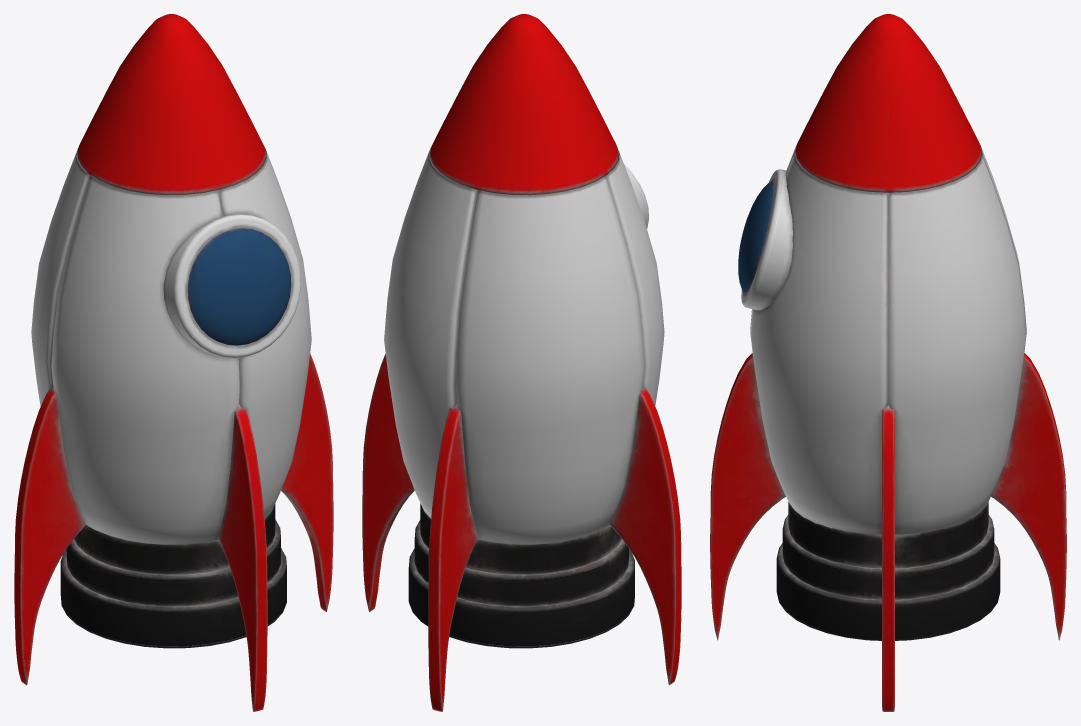
The model's file is R2-toy-rocket.glb.
3 views of the same model, side by side, from view 1: azimuth 30°, elevation 25°; view 2: azimuth 150°, elevation 25°; view 3: azimuth 270°, elevation 25° (orthographic).
Visible parts, largest first — view 1: Body_Toy Ship_0; view 2: Body_Toy Ship_0; view 3: Body_Toy Ship_0.
Part boxes in pixels (box(x1,y1,x2,y2)): Body_Toy Ship_0: box(14, 14, 333, 711); Body_Toy Ship_0: box(362, 14, 681, 711); Body_Toy Ship_0: box(710, 14, 1066, 711).
Size of the model in its own units: 1.63 by 3.12 by 1.63.
Materials: 1 (1 with a texture image).
